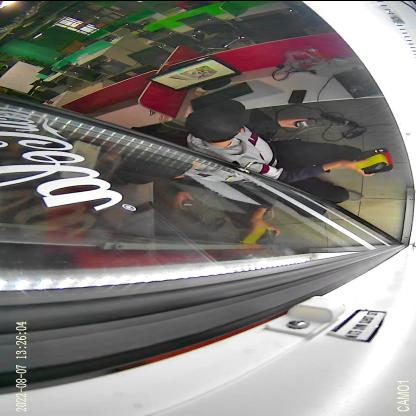red: (364, 146, 394, 174)
yellow: (358, 150, 390, 171)
